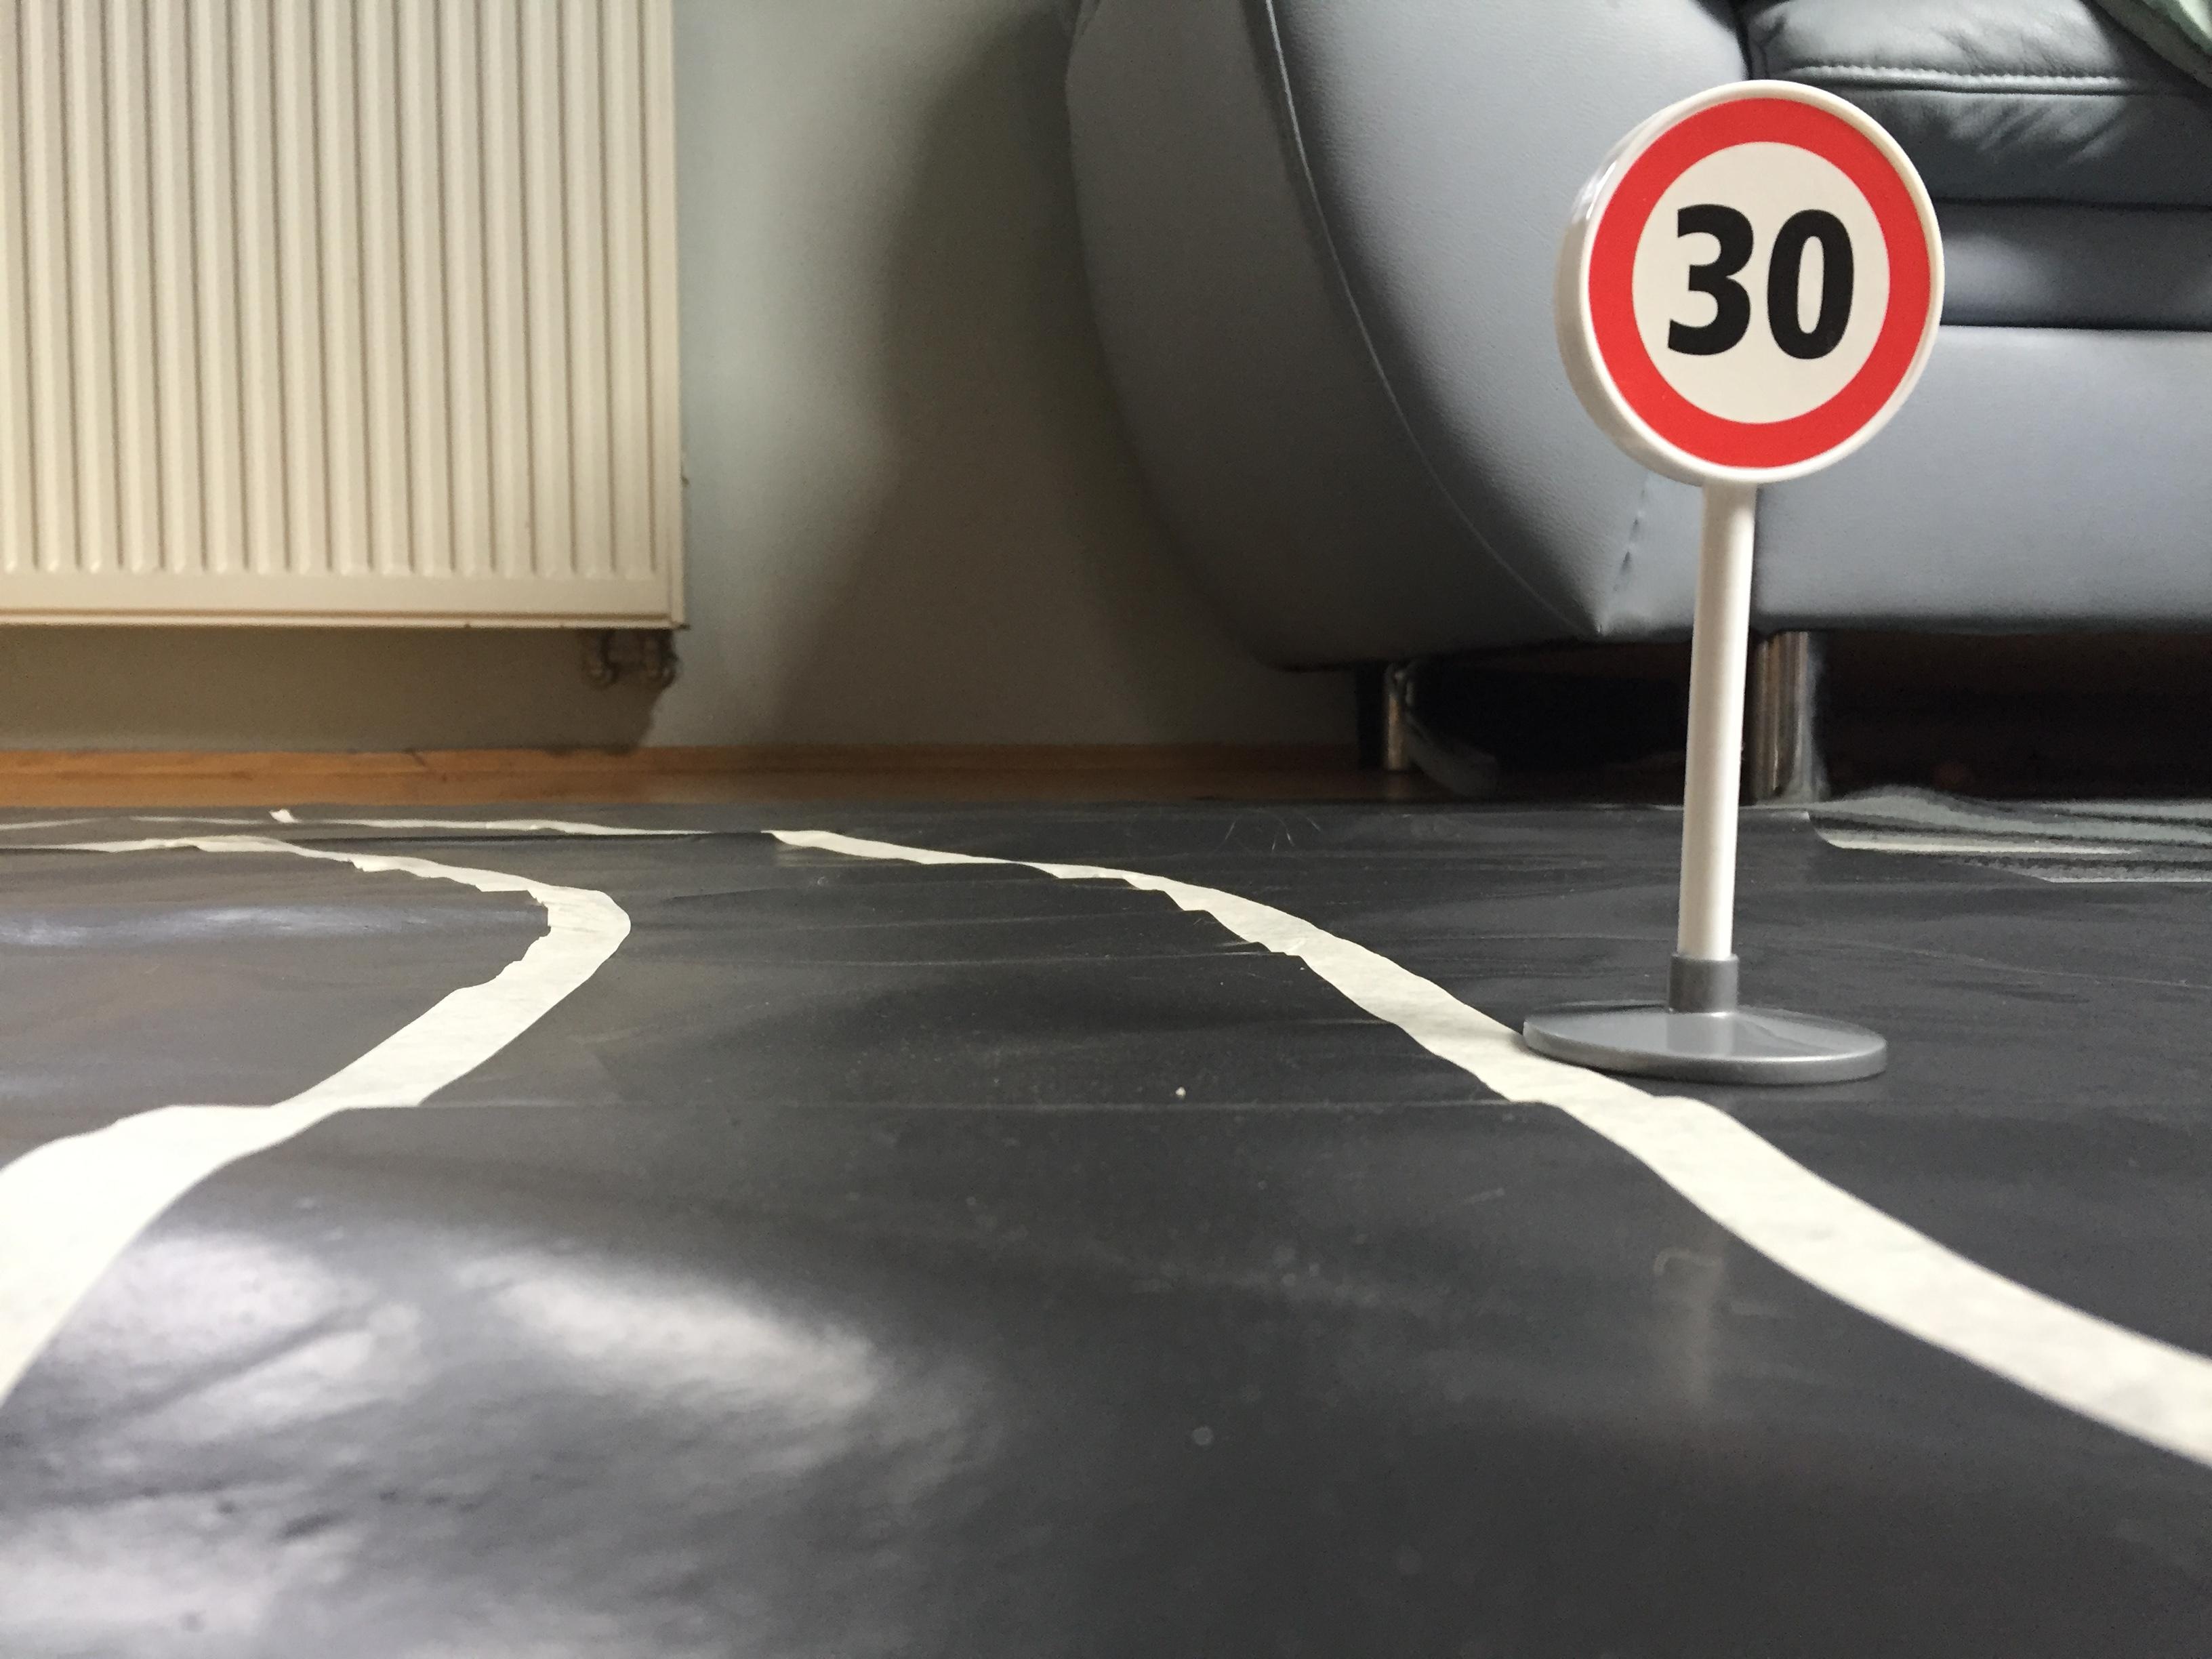speed: (1545, 82, 1949, 491)
